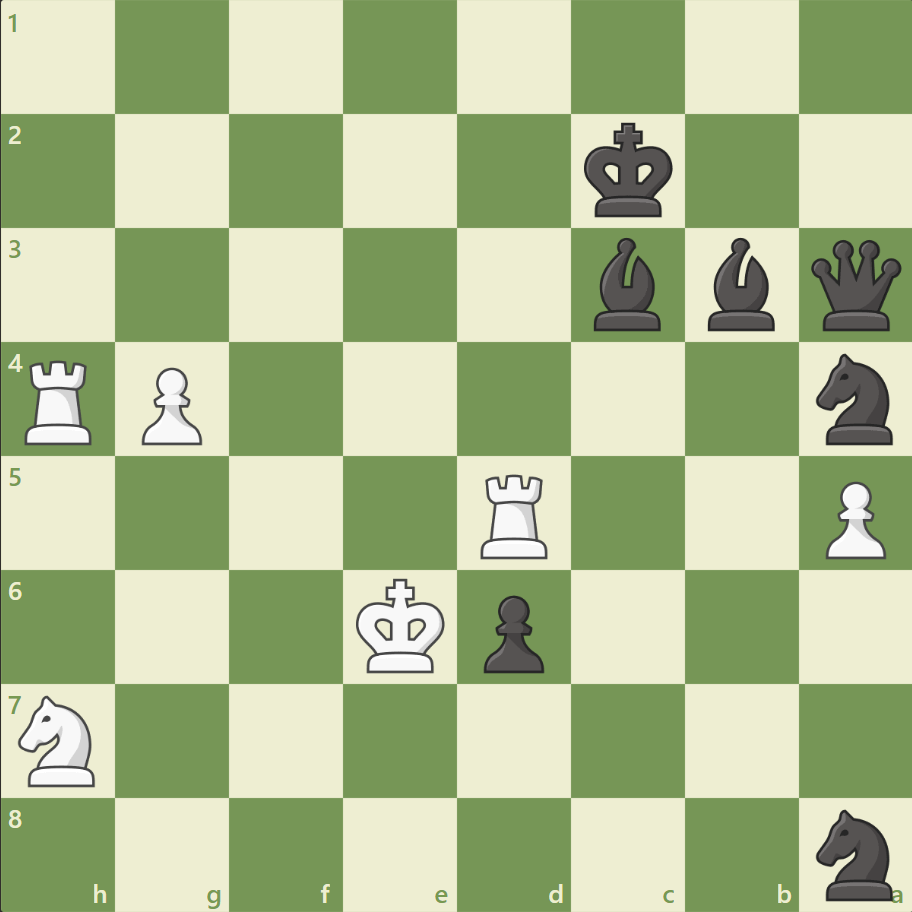K: (351, 571, 451, 679)
N: (11, 688, 108, 791)
P: (133, 359, 208, 450), (815, 473, 889, 564)
R: (473, 466, 556, 563), (19, 352, 102, 449)
b: (698, 233, 782, 336), (585, 233, 669, 336)
k: (579, 117, 679, 225)
n: (806, 802, 903, 904), (806, 348, 903, 450)
p: (474, 586, 549, 677)
q: (805, 236, 904, 335)
